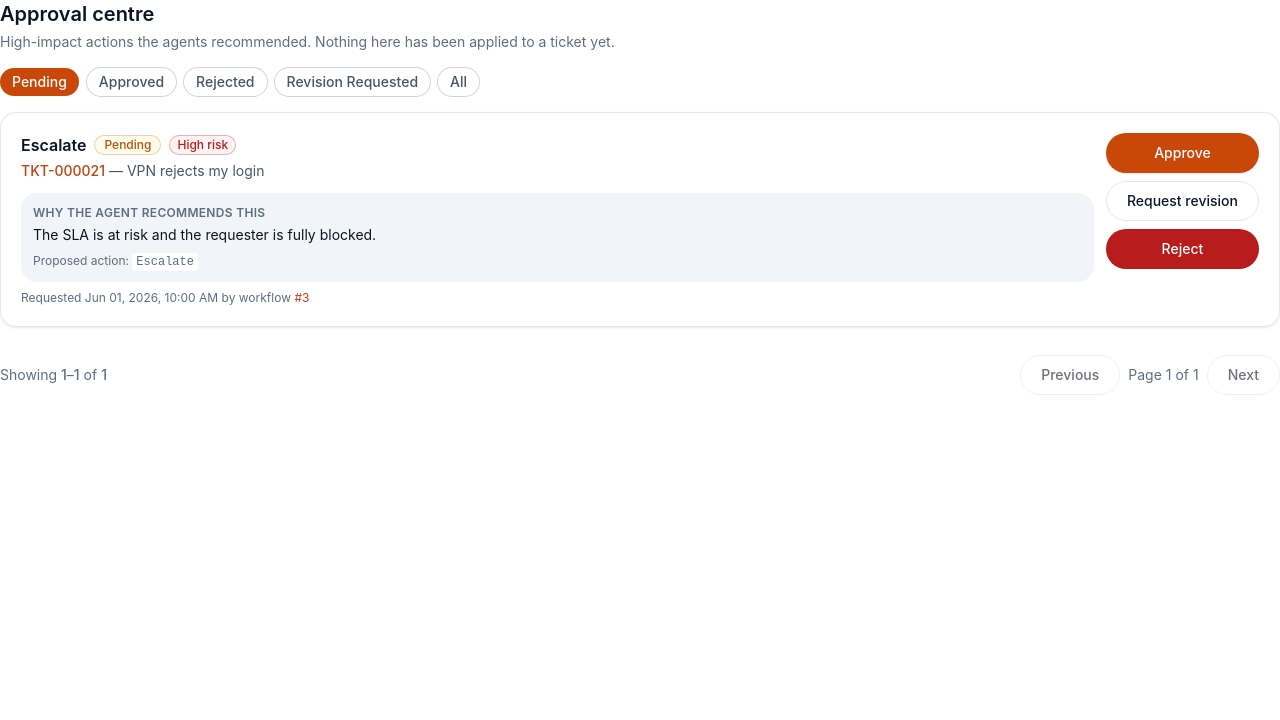
Test: ApprovalCenter › surfaces a 403 from the API instead of pretending the decision worked
Expected: the link "TKT-000021" is shown, x1=21 y1=162 x2=105 y2=179
Step 1. Click the button "Approve" → (1182, 153), box x1=1106 y1=133 x2=1259 y2=173
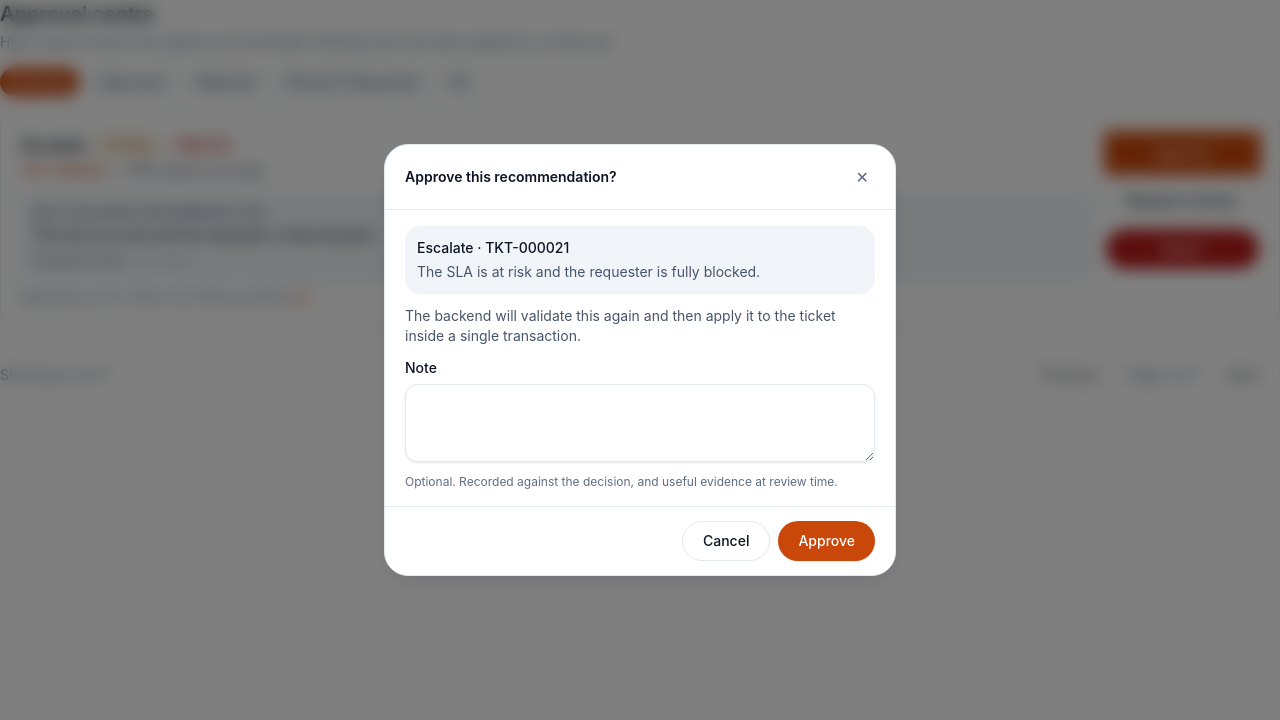
Step 2. Click the button "Approve" → (827, 541), box x1=778 y1=521 x2=875 y2=561
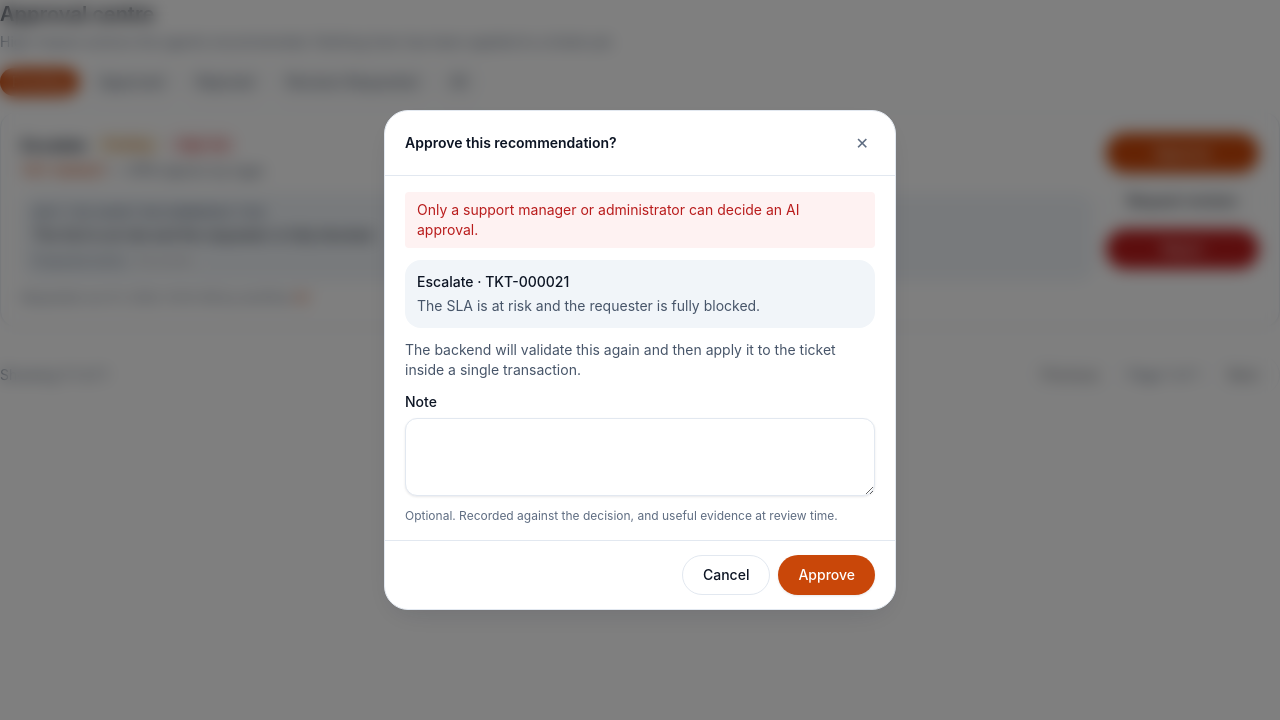
Result: the message shows "Only a support manager" at x1=417 y1=201 x2=800 y2=238
